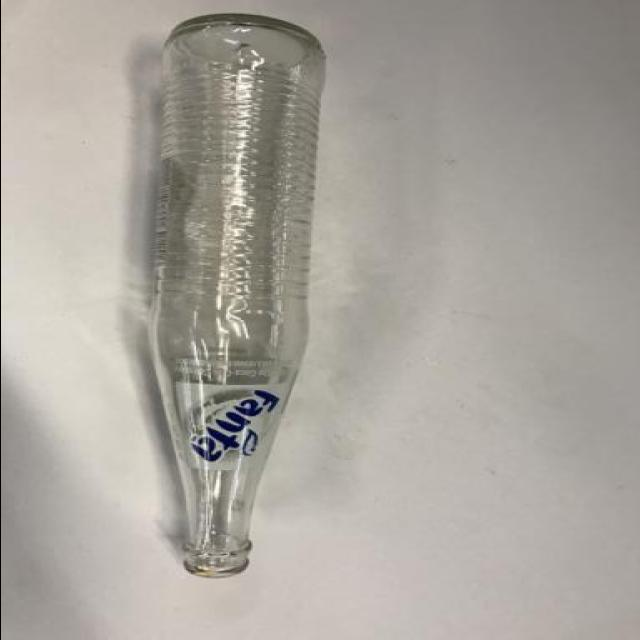litter: (138, 12, 330, 586)
